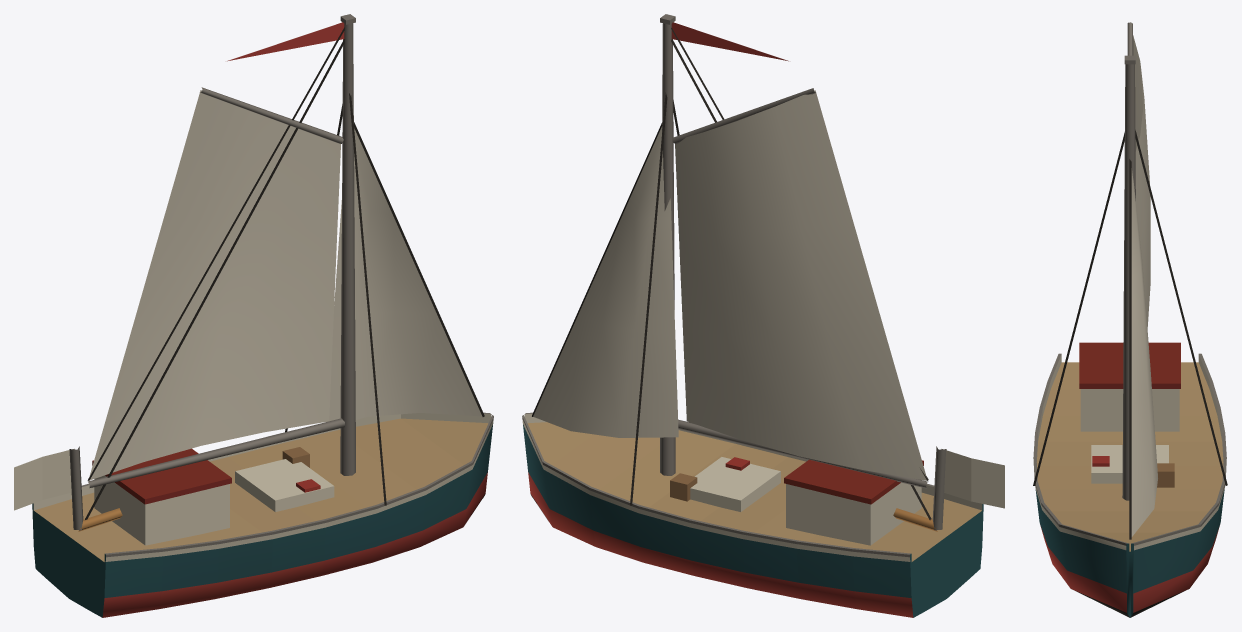
The model's file is hull_other_work_boat.glb.
The picture shows the model from 3 angles, left to right: view 1: azimuth 30°, elevation 25°; view 2: azimuth 150°, elevation 25°; view 3: azimuth 270°, elevation 25°; orthographic projection. The views are drawn at different scales.
Visible parts, largest first — view 1: sail_main, hull, sail_jib, deck, mast, rigging, flag, boom_spar, gaff; view 2: sail_main, hull, sail_jib, deck, mast, flag, rigging, boom_spar, gaff; view 3: hull, deck, sail_jib, mast, rigging, sail_main.
Part boxes in pixels (<box>): sail_main: <box>89,90,340,480</box>; hull: <box>32,412,493,617</box>; sail_jib: <box>326,128,481,421</box>; deck: <box>78,447,334,545</box>; mast: <box>69,14,355,530</box>; rigging: <box>85,39,484,519</box>; flag: <box>14,22,344,510</box>; boom_spar: <box>87,27,344,487</box>; gaff: <box>200,87,343,143</box>; sail_main: <box>675,90,926,480</box>; hull: <box>522,412,983,617</box>; sail_jib: <box>533,127,678,437</box>; deck: <box>670,457,937,545</box>; mast: <box>660,14,946,530</box>; flag: <box>671,22,1004,508</box>; rigging: <box>532,39,931,520</box>; boom_spar: <box>671,27,928,488</box>; gaff: <box>672,88,815,144</box>; hull: <box>1033,353,1226,617</box>; deck: <box>1079,342,1180,487</box>; sail_jib: <box>1131,168,1157,536</box>; mast: <box>1122,55,1135,500</box>; rigging: <box>1033,130,1227,539</box>; sail_main: <box>1133,35,1150,327</box>.
Bounding box in the file's own units: 8.5 × 9 × 3.09.
